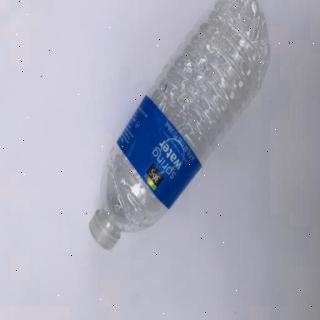Plastic-bottle: (89, 1, 274, 254)
